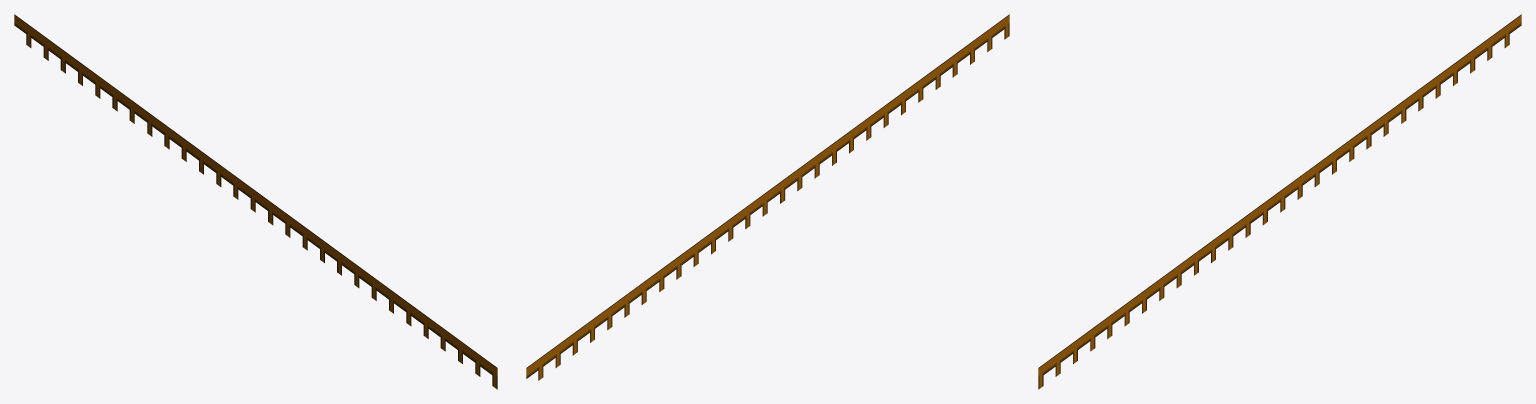
File: FenceStart.FBX
3 renders of one model, left to right at view 1: azimuth 30°, elevation 25°; view 2: azimuth 150°, elevation 25°; view 3: azimuth 330°, elevation 25°, orthographic.
Visible parts, largest first — view 1: l_mario_fence; view 2: l_mario_fence; view 3: l_mario_fence.
Boxes of the visible parts, x1=… form: l_mario_fence: x1=14, y1=14, x2=497, y2=389; l_mario_fence: x1=526, y1=14, x2=1009, y2=380; l_mario_fence: x1=1038, y1=14, x2=1521, y2=389.
Bounding box in the file's own units: 2.67e-08 × 0.6101 × 24.36.
